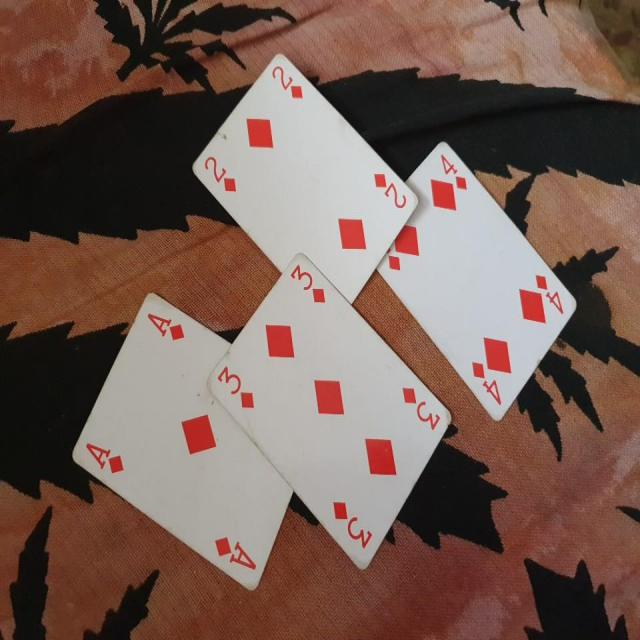2 Diamonds: (187, 50, 423, 308)
3 Diamonds: (203, 249, 456, 574)
4 Diamonds: (381, 128, 584, 426)
A Diamonds: (67, 285, 298, 610)
